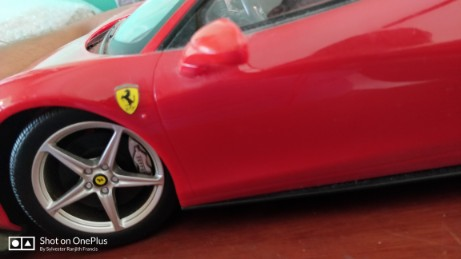unaligned_wheel: (8, 115, 181, 257)
